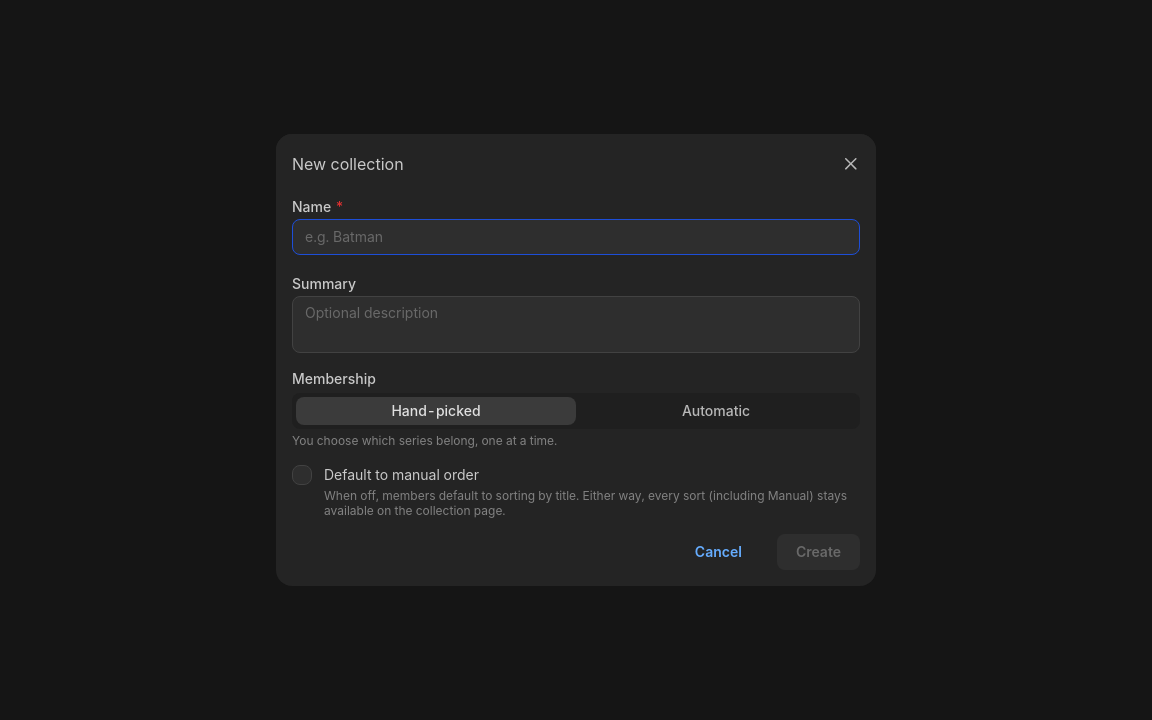
Test: CollectionFormModal membership mode › blocks submission of an automatic collection with no conditions
In the field with placeholder "e.g. Batman": (576, 237) [292,219,860,255], type "Empty rule"
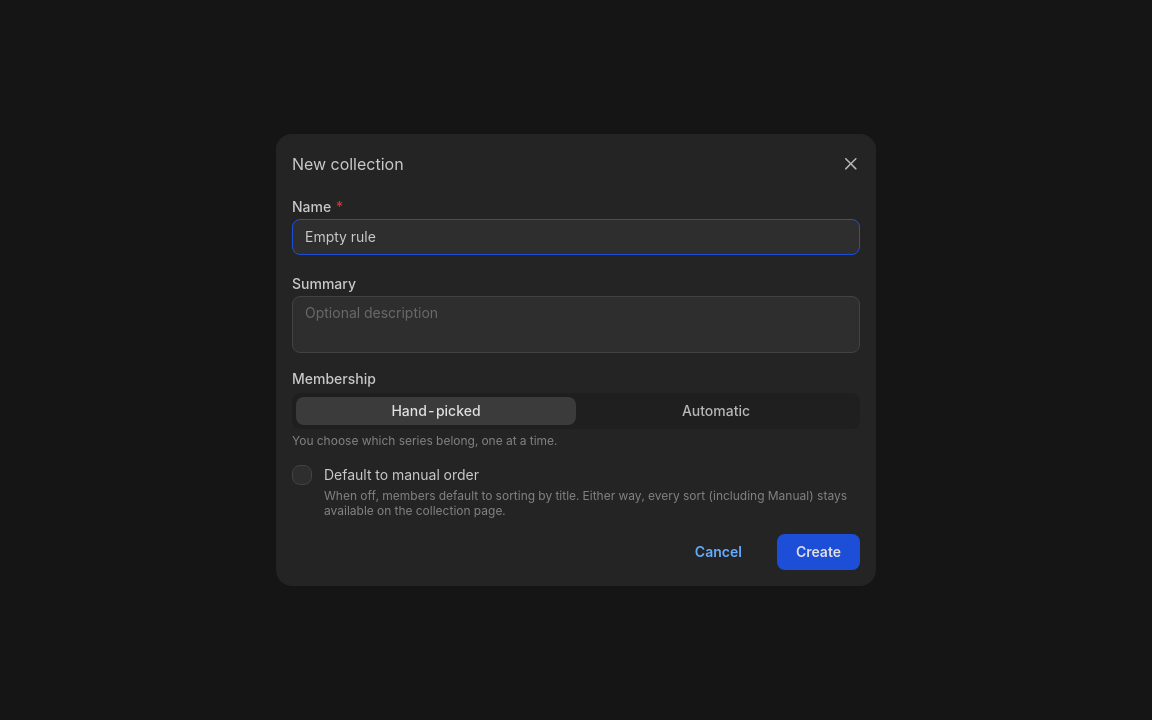
Click the text "Automatic": (716, 410) [682,402,750,419]
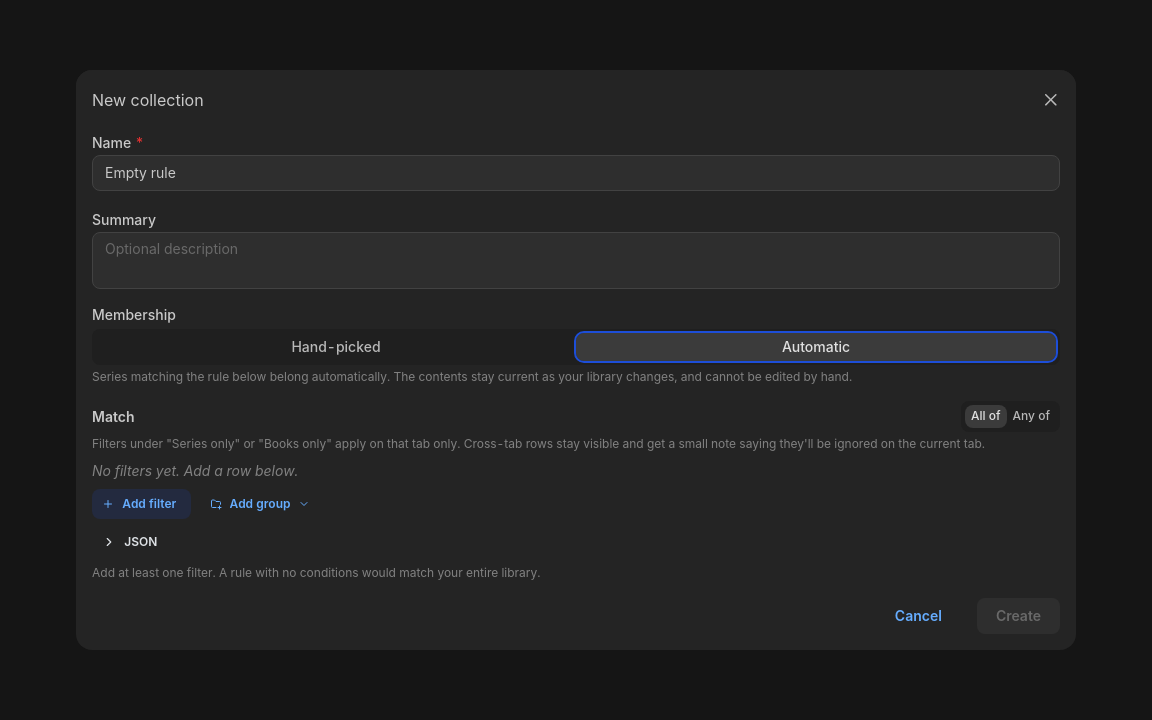
Now the button "Create" is disabled, box [977,598,1060,634]
Now the text "Add at least one filter" is shown, box [92,565,540,580]
